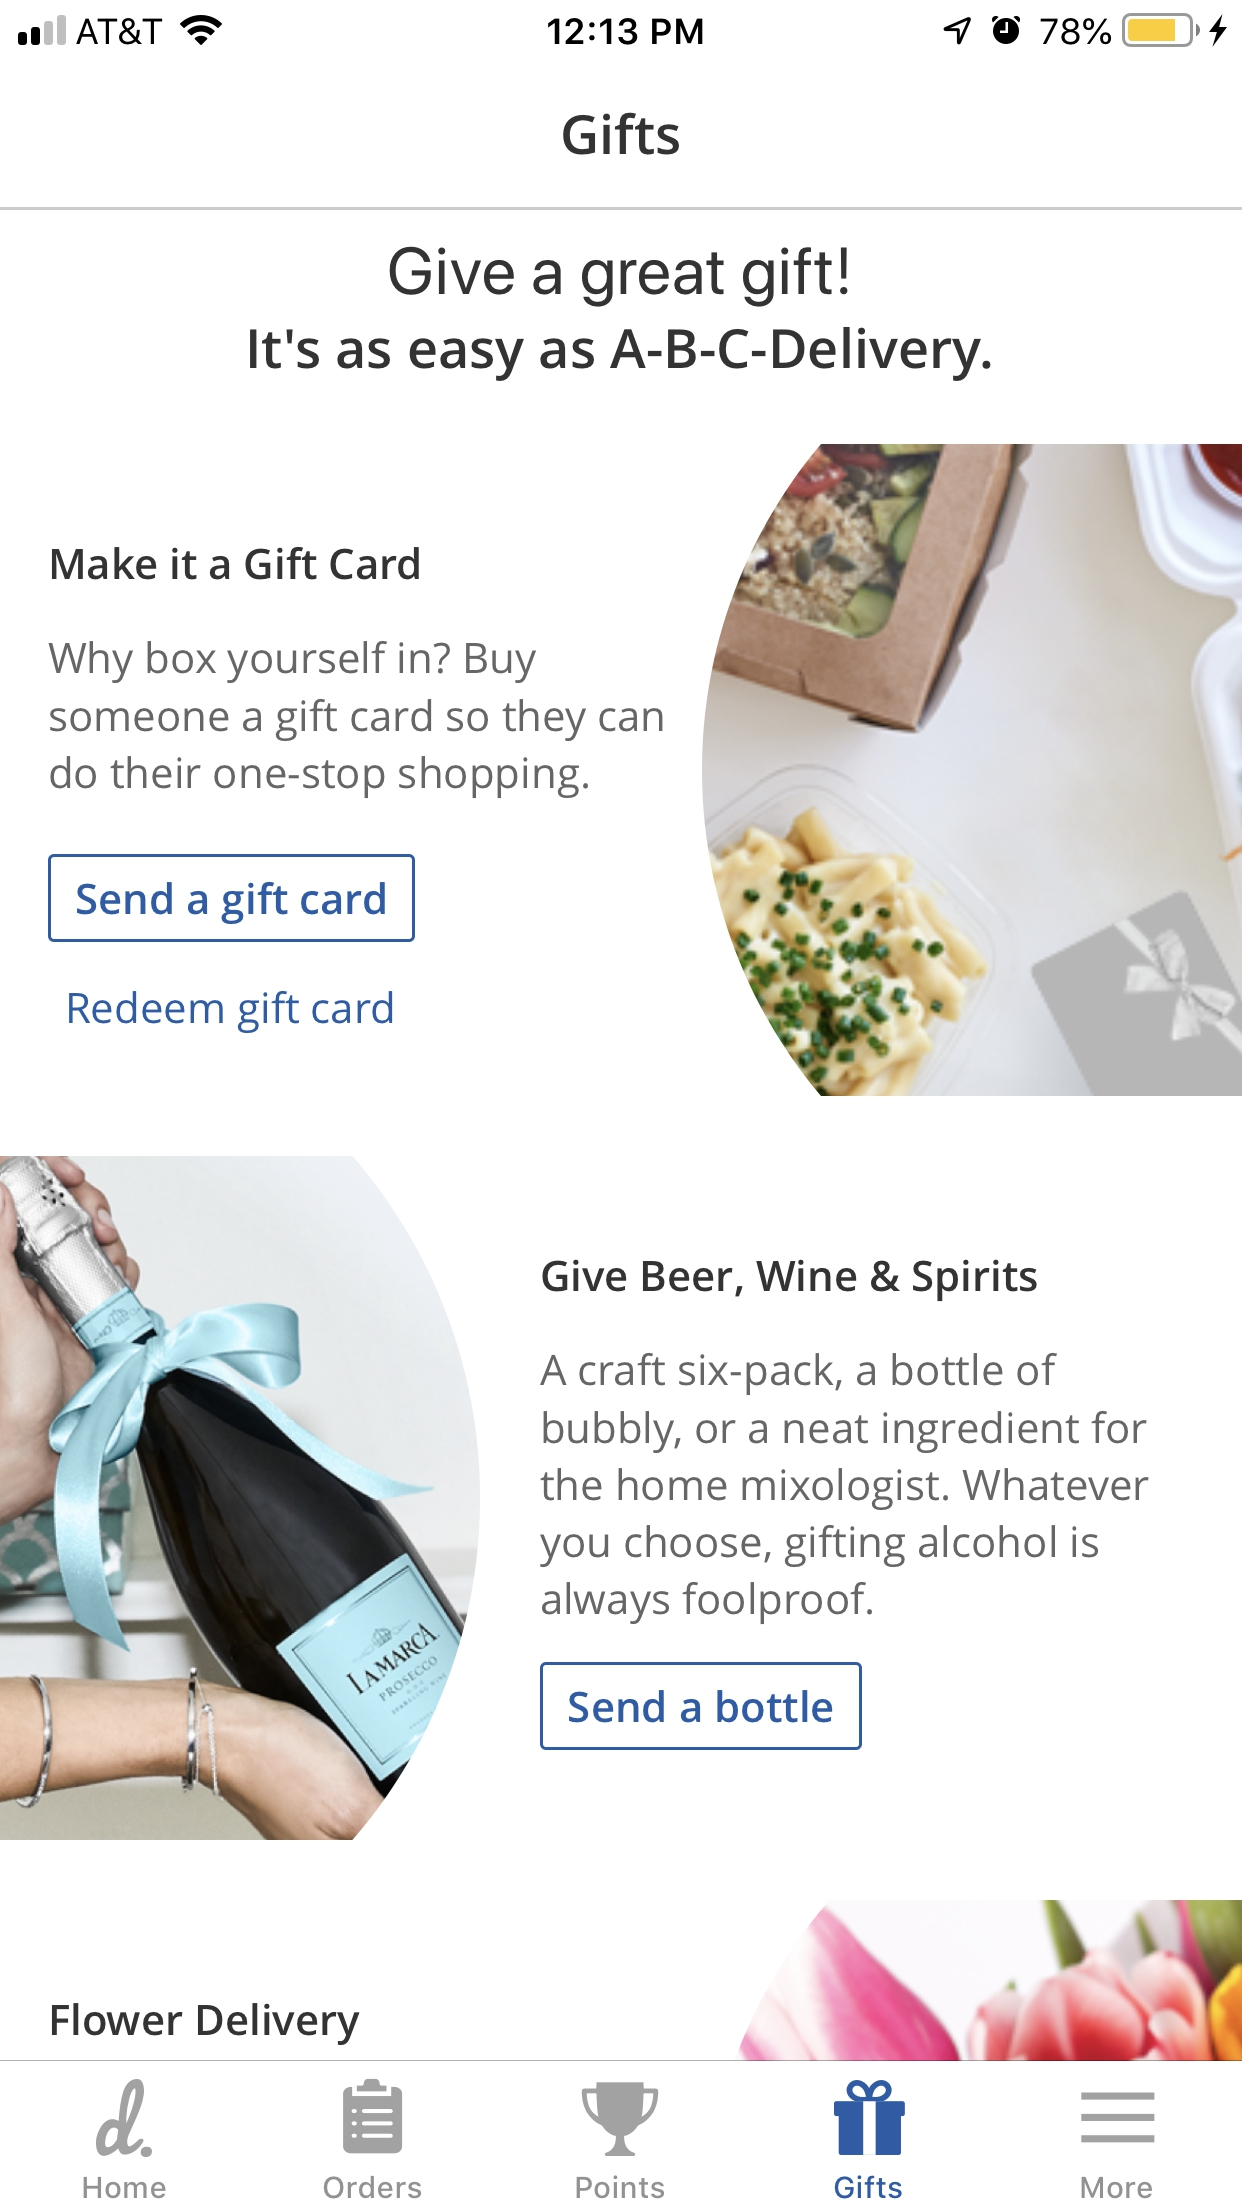Icon: (834, 2079, 905, 2156), (343, 2078, 403, 2153), (1080, 2091, 1156, 2144)
Image: (701, 444, 1242, 1098), (2, 1156, 481, 1841), (734, 1899, 1242, 2059), (581, 2081, 660, 2156), (96, 2078, 155, 2158)
Text: (540, 1353, 1149, 1626), (250, 246, 992, 384), (49, 641, 664, 801), (541, 1259, 1037, 1301), (70, 990, 394, 1034), (52, 2003, 359, 2046), (53, 546, 422, 581), (563, 112, 679, 158), (323, 2175, 422, 2199), (576, 2175, 666, 2199), (83, 2176, 167, 2200), (1080, 2175, 1153, 2199), (834, 2175, 902, 2199)
TextButton: (49, 852, 417, 943), (538, 1662, 863, 1752)
UpperTaskBar: (2, 2, 1242, 49)
